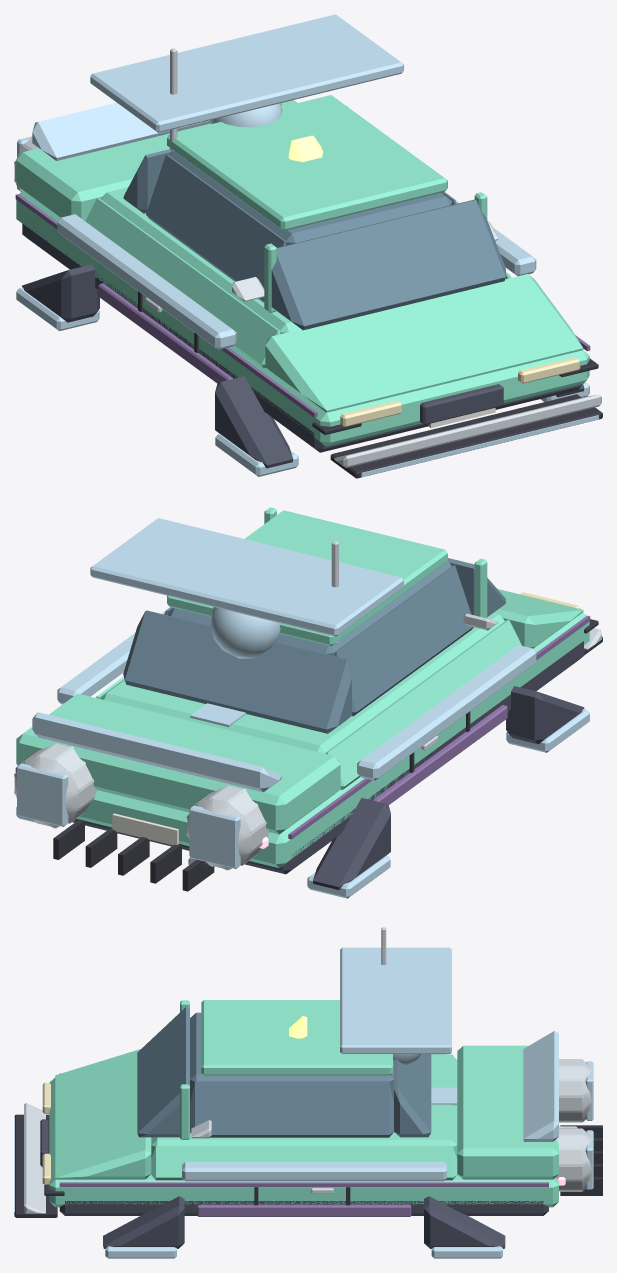
Rendered from holo_hopper.fbx.
The picture shows the model from 3 angles, top to bottom: view 1: azimuth 30°, elevation 25°; view 2: azimuth 150°, elevation 25°; view 3: azimuth 270°, elevation 25°; orthographic projection. The views are drawn at different scales.
Parts seen in each view (by area): view 1: Body, Glass, Light, Trim2, Accent, Accent3, Trim, Accent2, Light2, Light4; view 2: Body, Light, Glass, Trim2, Accent, Accent3, Trim, Accent2, Accent4; view 3: Body, Glass, Light, Trim2, Accent, Accent2, Accent3, Trim, Light2.
Part boxes in pixels (x1,y1,x2,y2): Body: (16, 95, 589, 446); Glass: (123, 106, 505, 330); Light: (16, 14, 598, 476); Trim2: (22, 223, 584, 468); Accent: (14, 48, 601, 467); Accent3: (32, 102, 281, 160); Trim: (138, 291, 602, 478); Accent2: (15, 194, 590, 417); Light2: (340, 357, 580, 426); Light4: (288, 135, 323, 162); Body: (16, 507, 589, 868); Light: (16, 518, 589, 898); Glass: (123, 515, 505, 733); Trim2: (72, 641, 584, 889); Accent: (14, 541, 601, 870); Accent3: (32, 712, 281, 792); Trim: (53, 619, 602, 891); Accent2: (15, 615, 590, 839); Accent4: (112, 813, 178, 845); Body: (49, 1000, 558, 1207); Glass: (137, 1007, 431, 1137); Light: (14, 947, 593, 1258); Trim2: (40, 1119, 548, 1248); Accent: (24, 927, 592, 1213); Accent2: (59, 1073, 548, 1216); Accent3: (190, 1031, 558, 1141); Trim: (14, 1114, 602, 1217); Light2: (42, 1082, 50, 1184).
Size of the model in its own units: 3.1 by 2.52 by 5.78.
